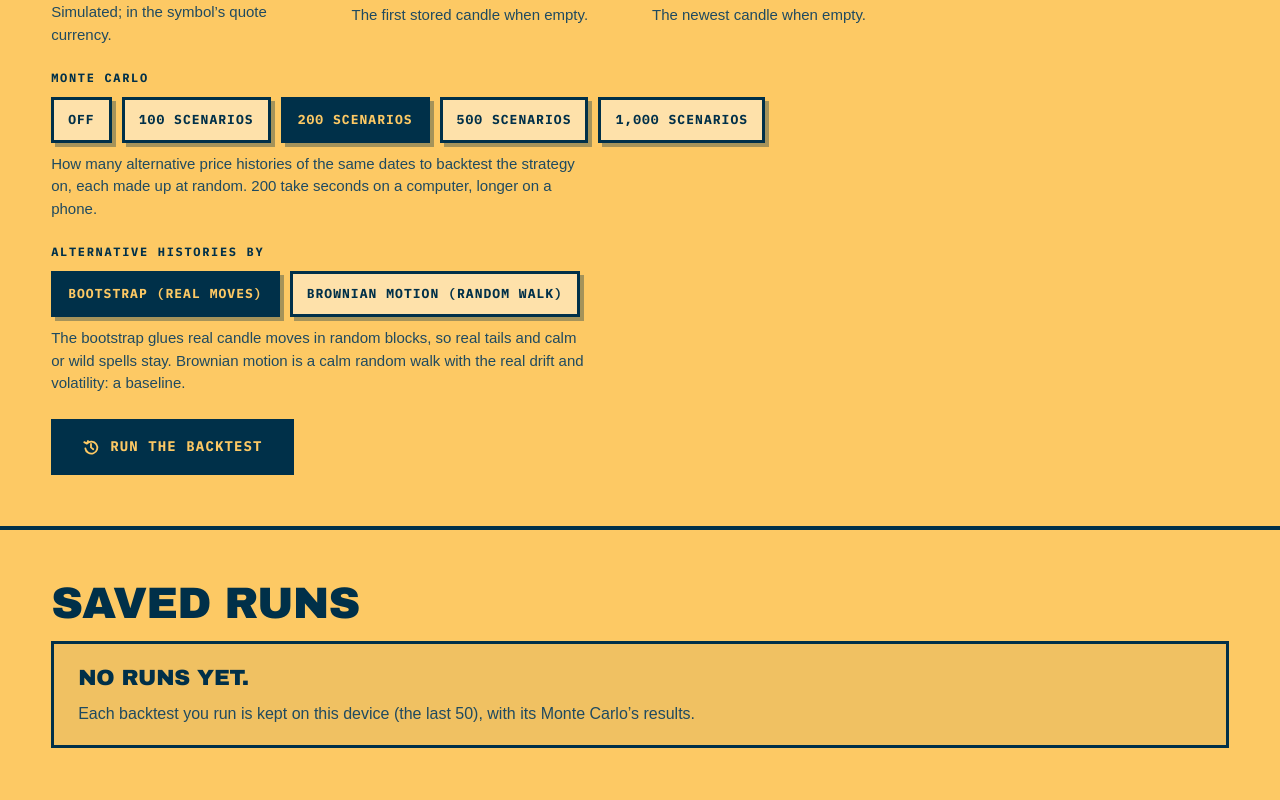
Test: Backtest › tells an older bot, which cannot hand out its candles, from a failure
(page scrolled)
Click the button "Run the backtest" at (172, 447), box [51, 419, 294, 475]
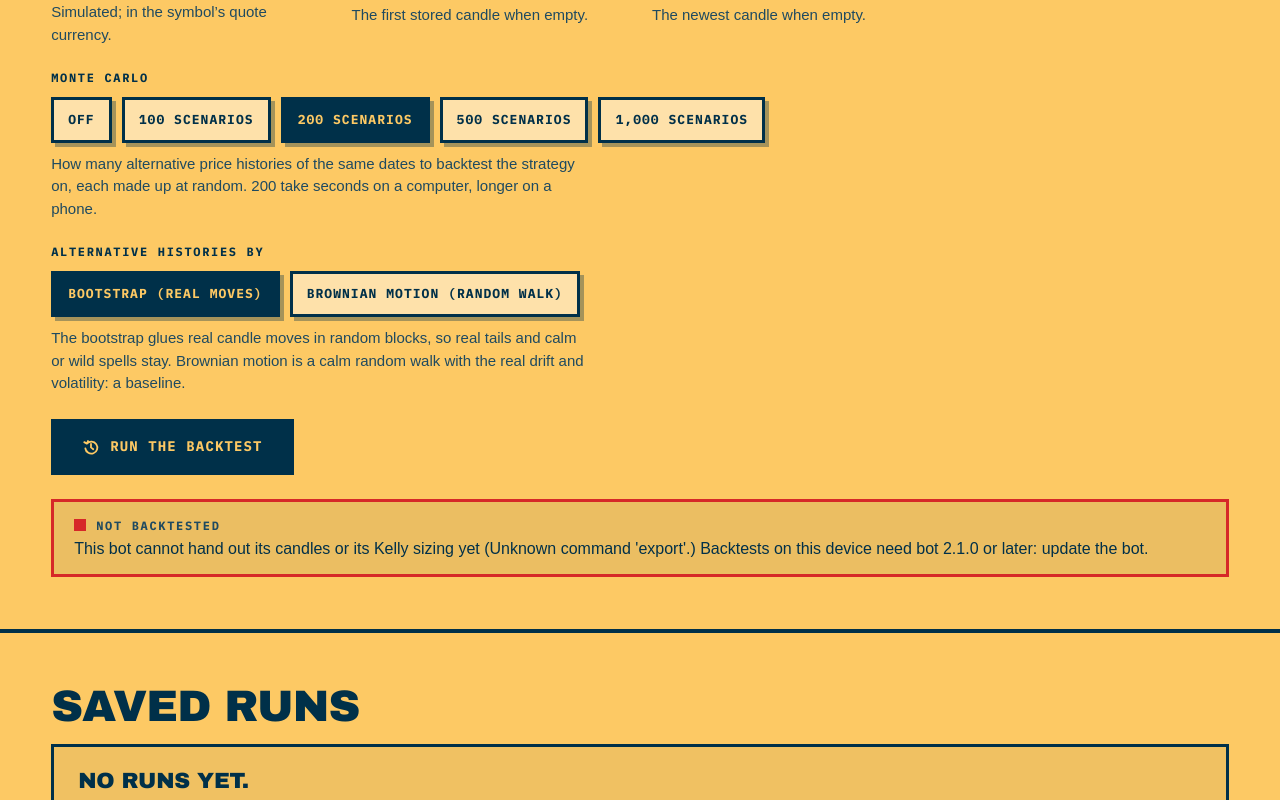
Result: the text "need bot 2.1.0 or later" is shown at [74, 540, 1148, 558]
